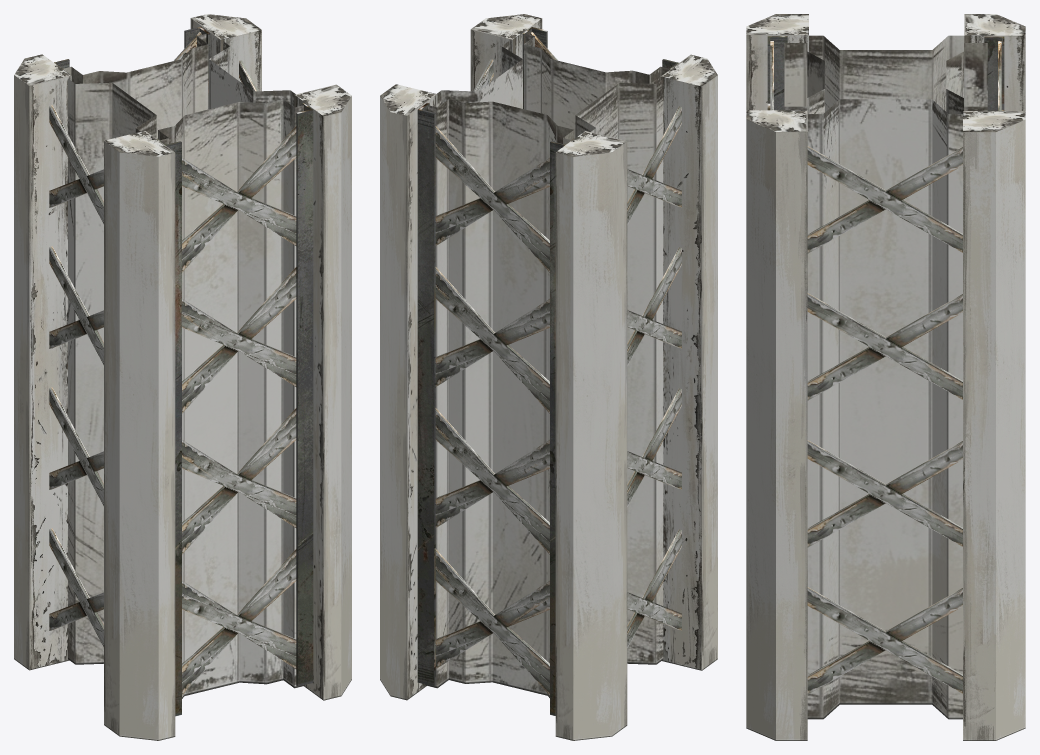
File: tower.fbx
3 renders of one model, left to right at view 1: azimuth 30°, elevation 25°; view 2: azimuth 150°, elevation 25°; view 3: azimuth 270°, elevation 25°, orthographic. The views are drawn at different scales.
Visible parts, largest first — view 1: Tower2, Tower; view 2: Tower2, Tower; view 3: Tower2, Tower.
Part boxes in pixels (bbox=[...]): Tower2: bbox=[14, 14, 351, 740]; Tower: bbox=[49, 60, 296, 683]; Tower2: bbox=[380, 14, 717, 740]; Tower: bbox=[435, 59, 681, 683]; Tower2: bbox=[746, 14, 1025, 740]; Tower: bbox=[807, 146, 962, 694].
Size of the model in its own units: 236 by 567 by 236.
2 materials, 2 textured.
